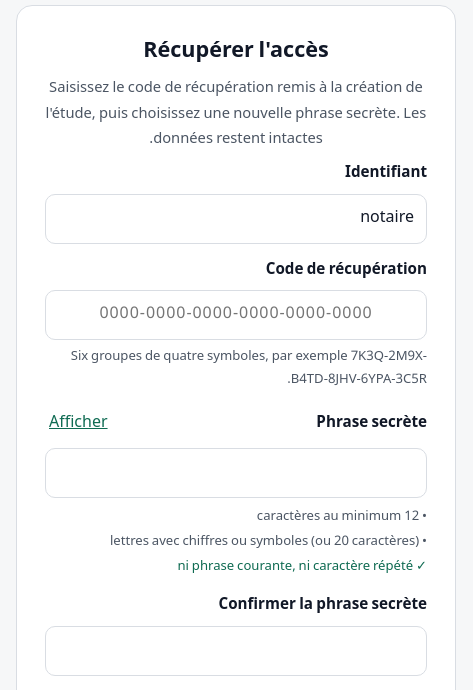
Test: forgot passphrase › refuses a weak new passphrase and says which rule failed
Type "7K3Q-2M9X-B4TD-8JHV-6YPA-3C5R" into the field labelled "Code de récupération" at coordinates (236, 315), box [45,290,427,340]
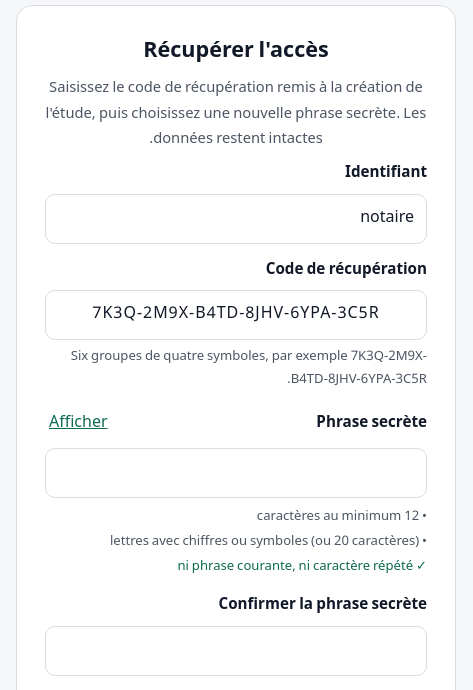
Type "court" into the password field labelled "Phrase secrète" at coordinates (236, 473), box [45,448,427,498]
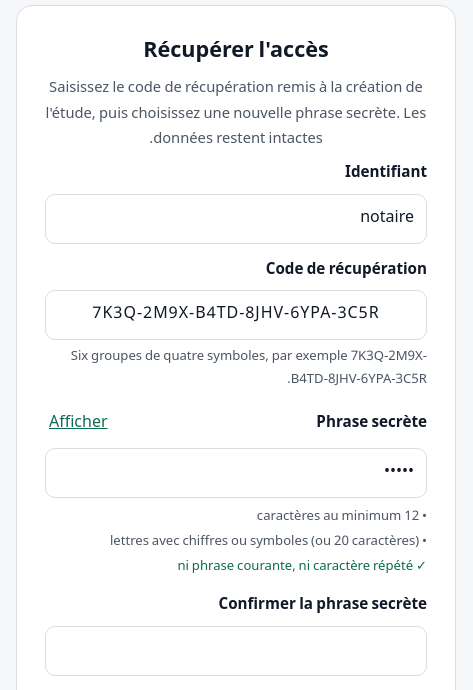
Type "court" into the password field labelled "Confirmer la phrase secrète" at coordinates (236, 651), box [45,626,427,676]
(page scrolled)
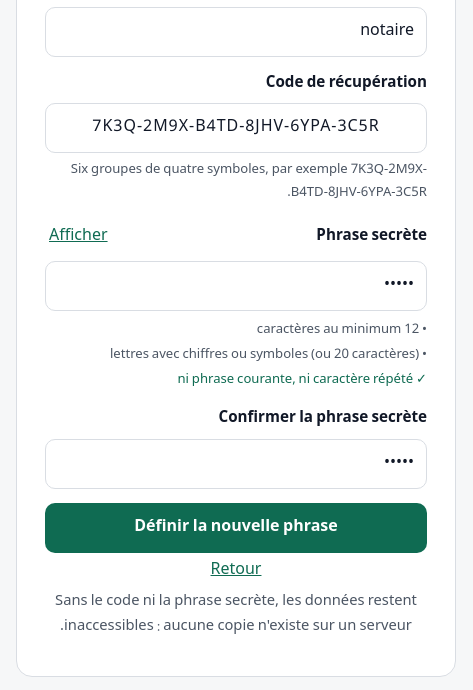
Click the button "Définir la nouvelle phrase" at coordinates (236, 528), box [45,503,427,553]
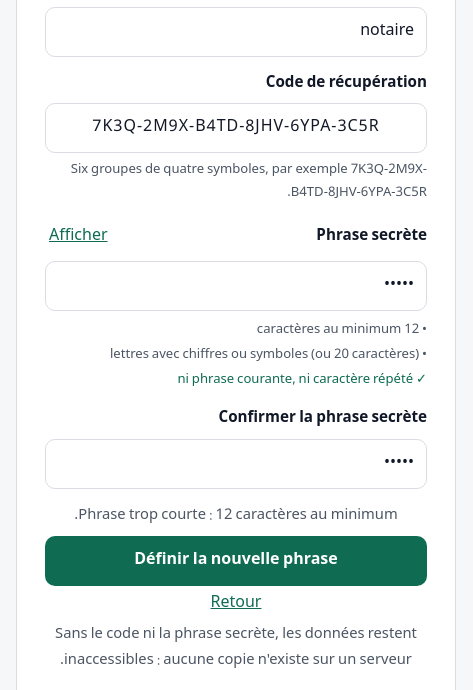
Expected: the message reads "Phrase trop courte : 12 caractères au minimum.", [74,503,398,528]
